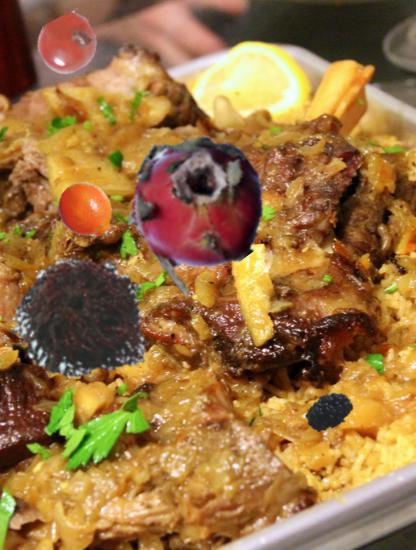Mulberry: (301, 378, 357, 434)
Pitahaya: (124, 128, 271, 275)
Rambutan: (16, 248, 162, 394)
Redcurrant: (38, 14, 99, 75)
Tangelo: (57, 181, 117, 241)
